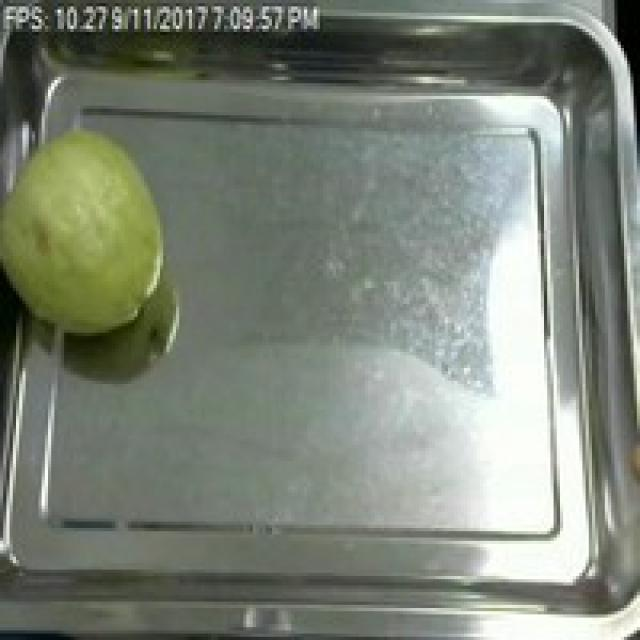Fruit: (0, 112, 179, 346)
